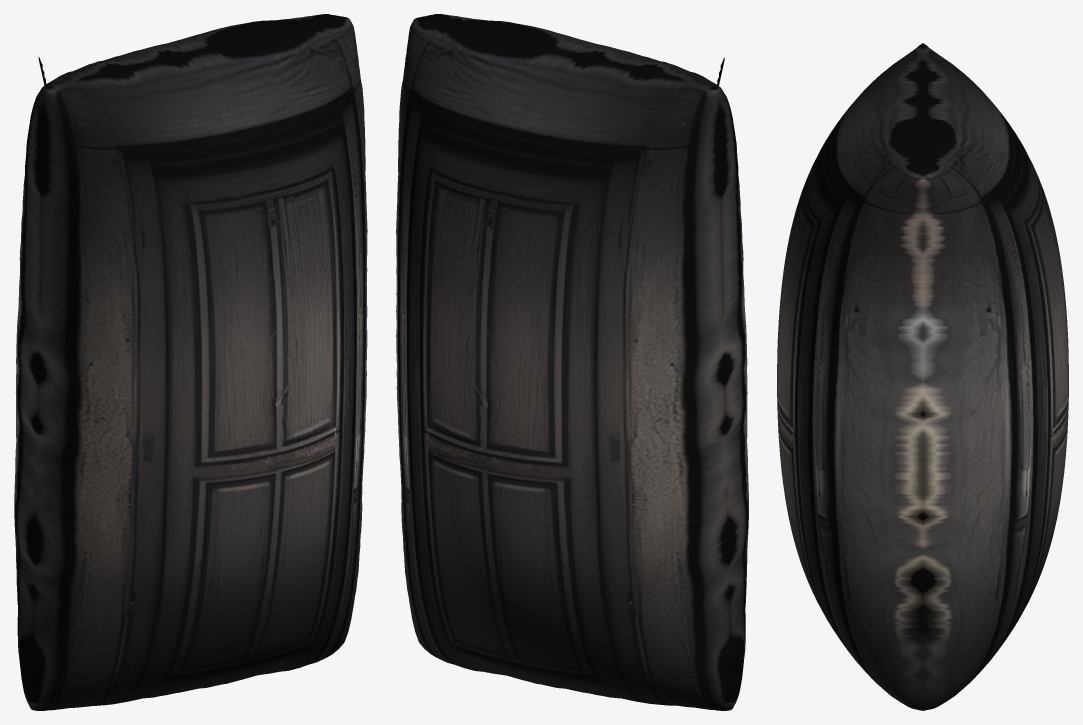
File: doors.glb
The picture shows the model from 3 angles, left to right: view 1: azimuth 30°, elevation 25°; view 2: azimuth 150°, elevation 25°; view 3: azimuth 270°, elevation 25°; orthographic projection. The views are drawn at different scales.
Bounding box in the file's own units: 3.62 × 7.1 × 3.26.
1 material, 1 textured.
